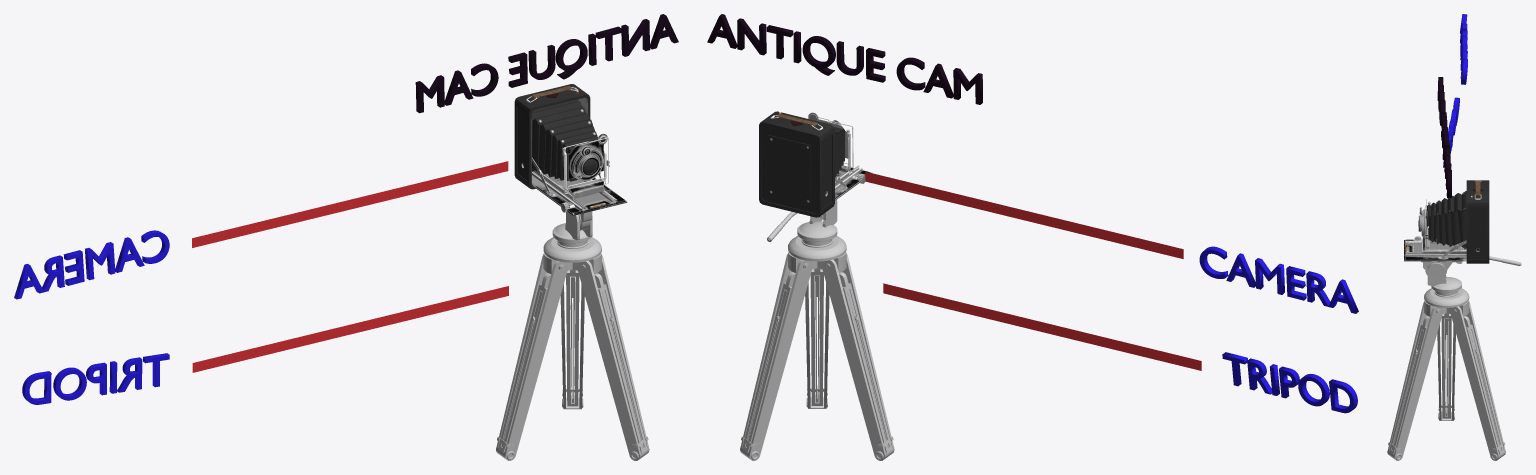
The model's file is smallcam.gltf.
The picture shows the model from 3 angles, left to right: view 1: azimuth 30°, elevation 25°; view 2: azimuth 150°, elevation 25°; view 3: azimuth 270°, elevation 25°; orthographic projection. The views are drawn at different scales.
Visible parts, largest first — view 1: tripod, camera, Text.002, NurbsPath, NurbsPath.001, Text, Text.001; view 2: tripod, camera, Text.002, NurbsPath, NurbsPath.001, Text, Text.001; view 3: tripod, camera, Text.002, Text, Text.001.
Boxes of the visible parts, box(x1,y1,x2,y2) form: tripod: box(496, 211, 649, 460); camera: box(514, 84, 627, 215); Text.002: box(415, 14, 678, 113); NurbsPath: box(192, 161, 508, 247); NurbsPath.001: box(192, 286, 508, 372); Text: box(14, 230, 169, 299); Text.001: box(22, 353, 169, 404); tripod: box(740, 200, 894, 460); camera: box(759, 111, 871, 217); Text.002: box(707, 14, 982, 104); NurbsPath: box(865, 171, 1183, 258); NurbsPath.001: box(883, 283, 1201, 370); Text: box(1199, 246, 1358, 313); Text.001: box(1222, 352, 1357, 413); tripod: box(1387, 256, 1521, 460); camera: box(1404, 180, 1489, 263); Text.002: box(1437, 77, 1451, 197); Text: box(1460, 14, 1467, 84); Text.001: box(1443, 97, 1459, 167).
Size of the model in its own units: 8.26 by 4.86 by 1.91.
